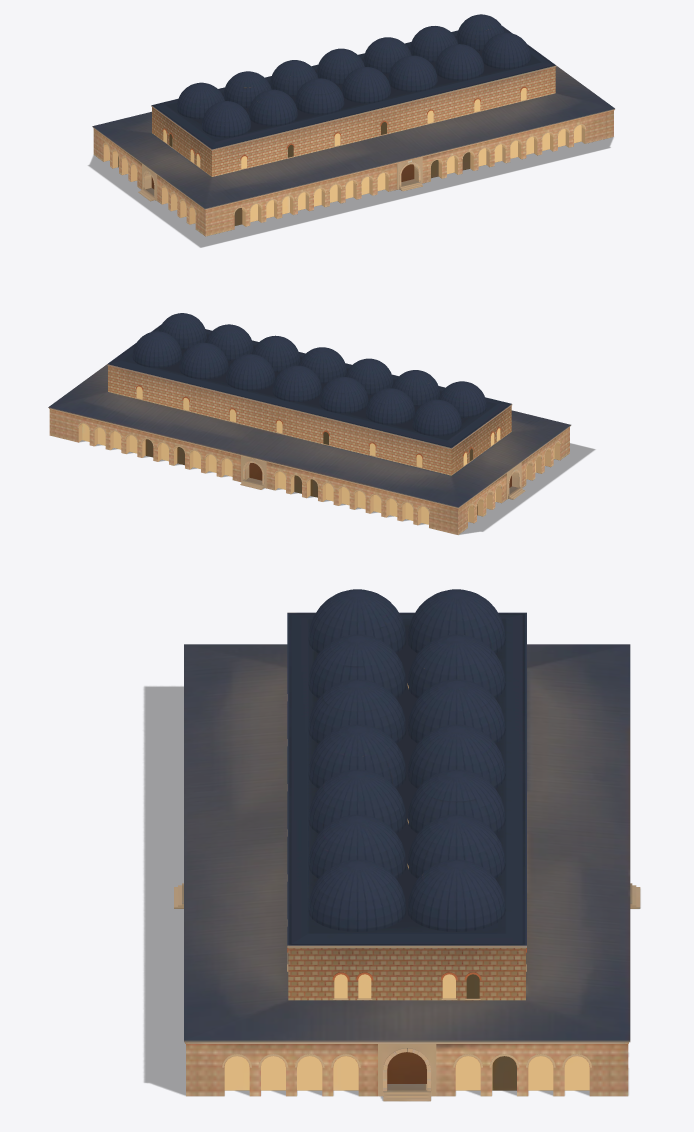
Rendered from bedesten_v11_night_harita_pisik.glb.
3 renders of one model, top to bottom at view 1: azimuth 30°, elevation 25°; view 2: azimuth 150°, elevation 25°; view 3: azimuth 270°, elevation 25°, orthographic. The views are drawn at different scales.
Parts seen in each view (by area): view 1: Dukkanlar, Kubbeler, Govde, Harita_Golge, Govde_Ortu, Kapilar; view 2: Dukkanlar, Kubbeler, Govde, Govde_Ortu, Harita_Golge, Kapilar; view 3: Dukkanlar, Kubbeler, Govde_Ortu, Harita_Golge, Govde, Kapilar.
Part boxes in pixels (<box>): Dukkanlar: <box>92,26,614,236</box>; Kubbeler: <box>177,14,530,137</box>; Govde: <box>152,26,555,176</box>; Harita_Golge: <box>88,137,613,247</box>; Govde_Ortu: <box>154,29,552,148</box>; Kapilar: <box>138,157,422,201</box>; Dukkanlar: <box>48,324,571,534</box>; Kubbeler: <box>132,313,486,436</box>; Govde: <box>108,325,511,475</box>; Govde_Ortu: <box>110,327,508,446</box>; Harita_Golge: <box>79,440,594,534</box>; Kapilar: <box>240,456,525,499</box>; Dukkanlar: <box>184,612,630,1096</box>; Kubbeler: <box>308,589,505,931</box>; Govde_Ortu: <box>291,614,522,943</box>; Harita_Golge: <box>144,686,589,1100</box>; Govde: <box>287,613,526,1000</box>; Kapilar: <box>174,883,640,1101</box>.
Bounding box in the file's own units: 86.16 × 14.2 × 50.43.
2 materials, 2 textured.
